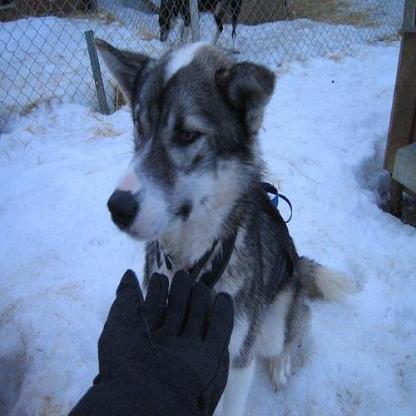Eskimo_dog: (92, 32, 356, 397)
